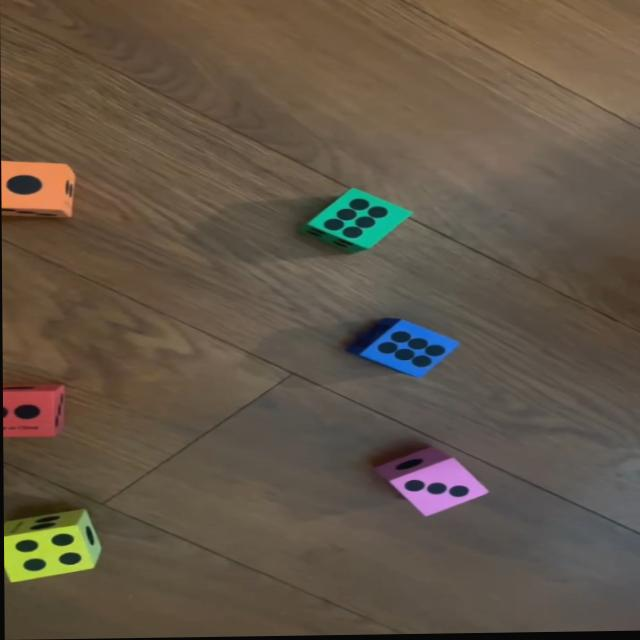blue_block: (349, 319, 463, 380)
red_block: (2, 381, 66, 436)
